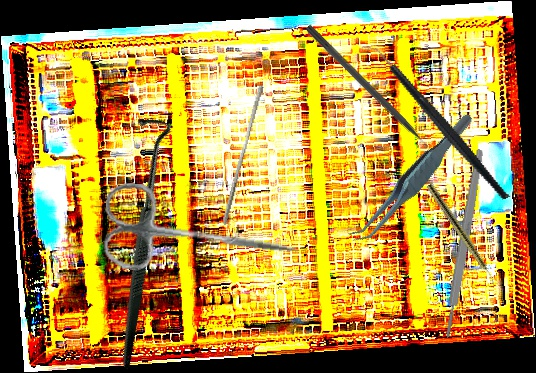Chopper: (358, 16, 511, 229)
Handpiece: (424, 182, 501, 289)
Hook Surgical: (15, 108, 259, 370)
Iris Scissors: (98, 180, 305, 290)
Pusher: (303, 23, 440, 161), (221, 83, 265, 227)
Scalpel Handle: (441, 148, 486, 339)
Tissue Forceps: (330, 111, 495, 248)
